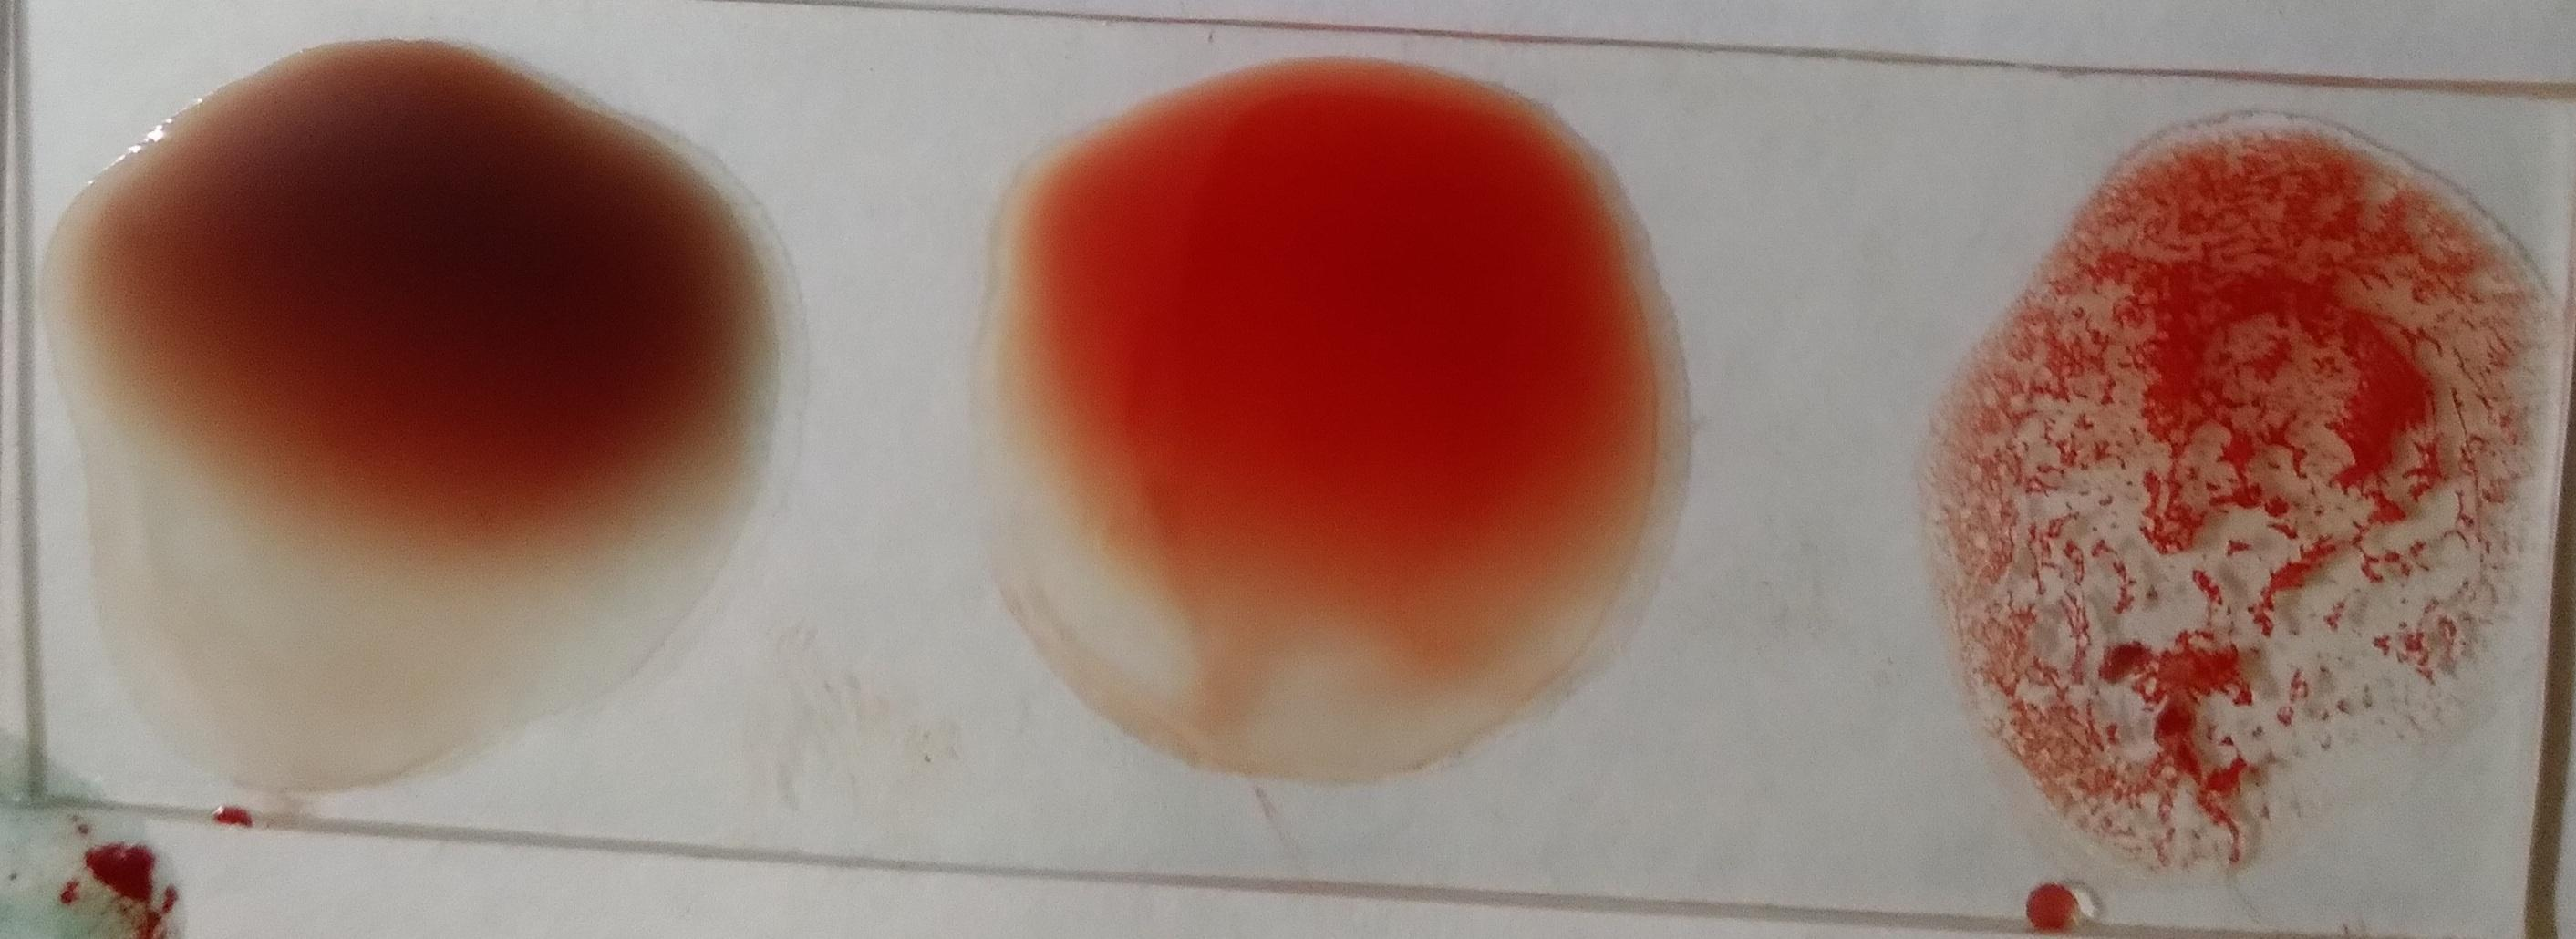D: (1944, 126, 2540, 845)
